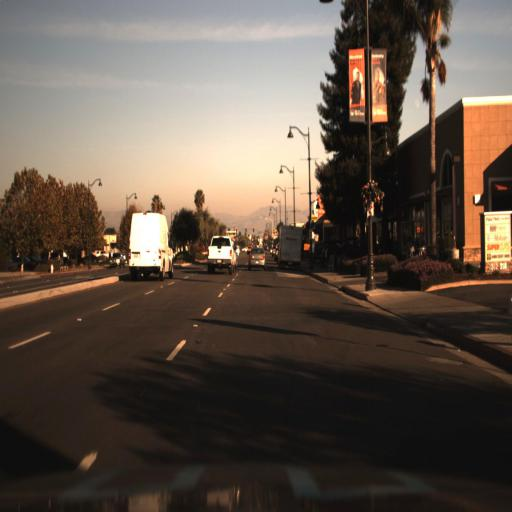car: (121, 195, 183, 293), (274, 218, 304, 274), (202, 234, 239, 271), (245, 247, 271, 271), (106, 244, 124, 272), (106, 250, 126, 271)
truck: (126, 208, 180, 288), (274, 223, 304, 274)
